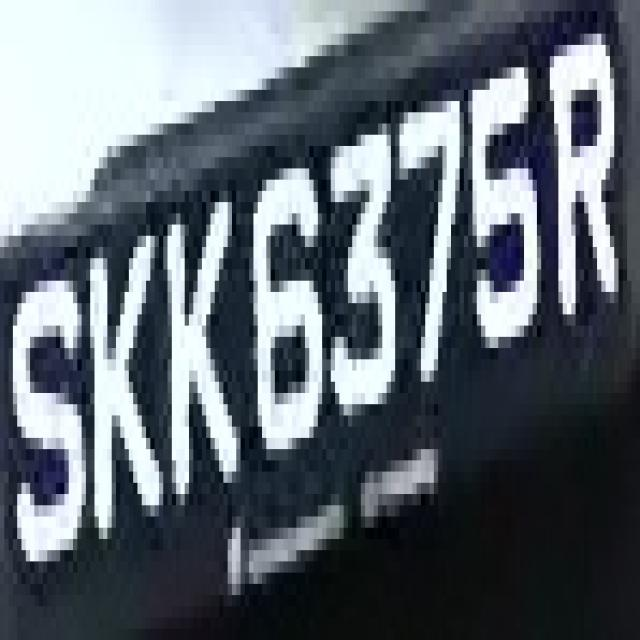3: (314, 101, 404, 438)
5: (464, 67, 537, 370)
6: (236, 112, 331, 506)
7: (386, 90, 464, 415)
K: (150, 179, 245, 516), (90, 191, 159, 550)
R: (554, 12, 623, 314)
S: (9, 213, 94, 595)
